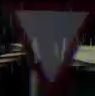Give way: (7, 0, 94, 83)
